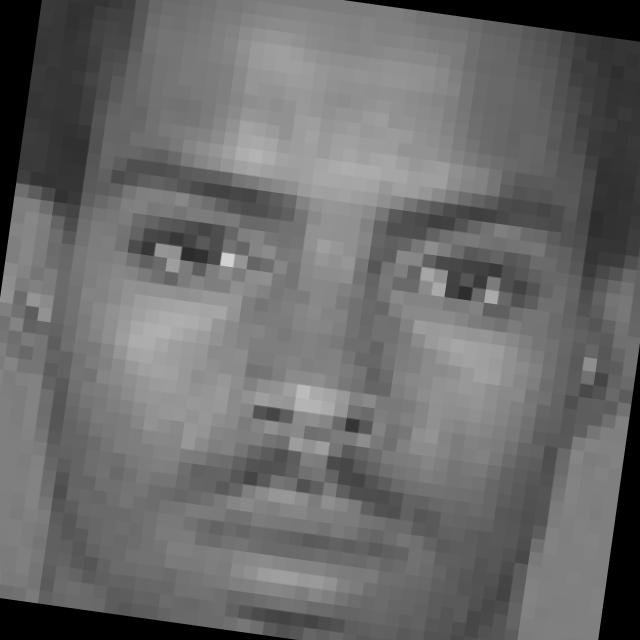neutral: (48, 135, 577, 640)
